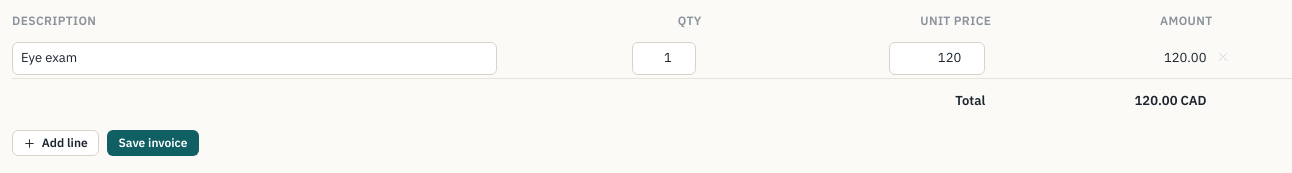
InvoiceEditor › refuses to save a line with no description
Clear the field named "Line 1 description". click: (255, 58)
box: [12,42,497,75]
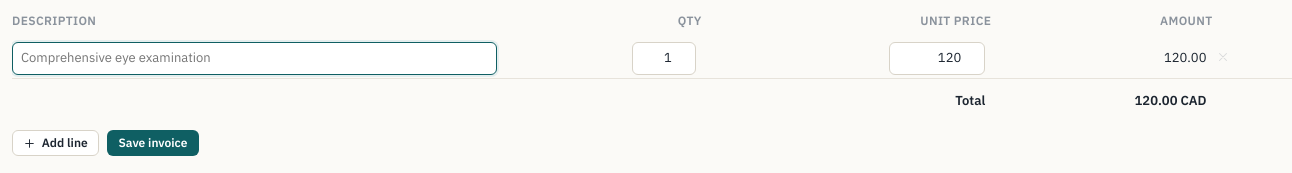
Click the button "Save invoice". click: (153, 143)
box: [107,130,199,156]
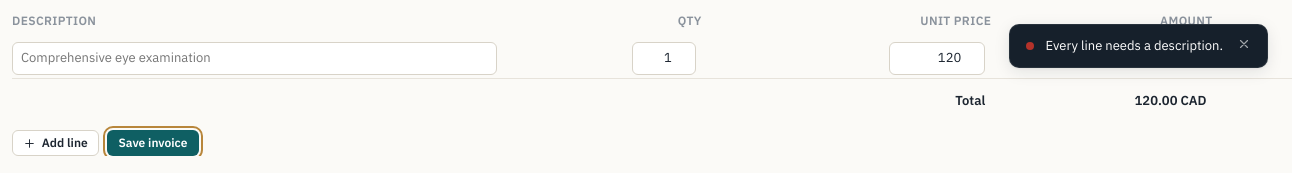
Now the text "Every line needs a description." is shown, box [1046,37,1223,54]
